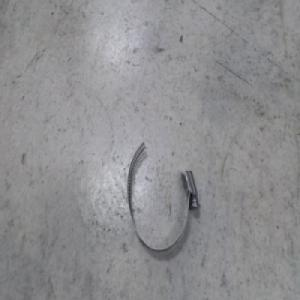AdjustableClamp: (126, 136, 199, 250)
